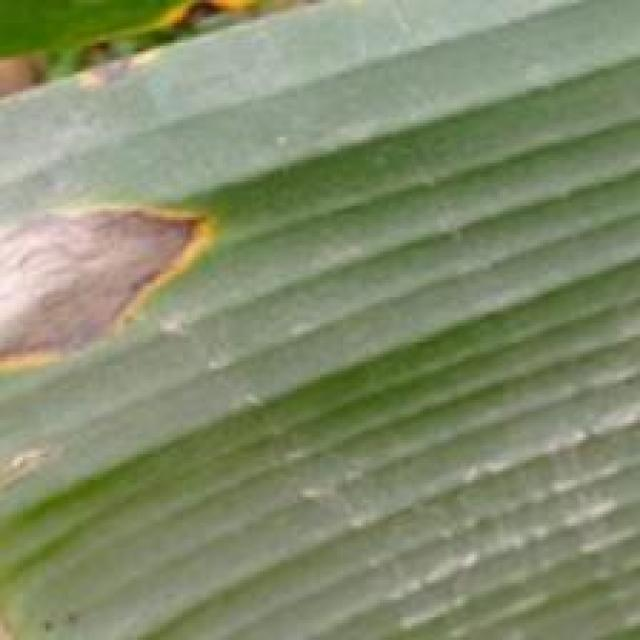Bacterial_spot: (0, 188, 243, 390), (0, 426, 89, 500), (137, 0, 252, 46)
